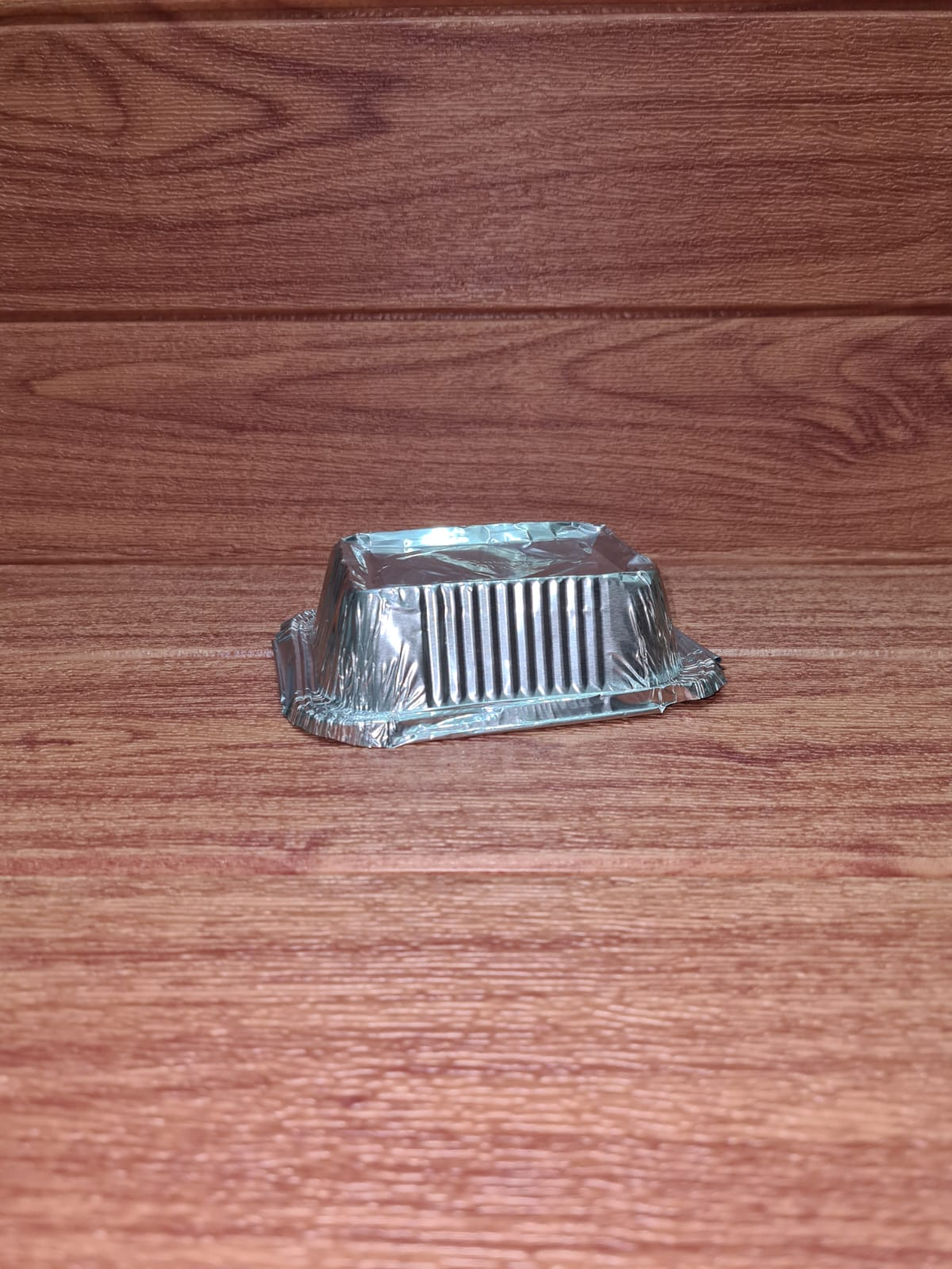Metal: (278, 524, 729, 749)
